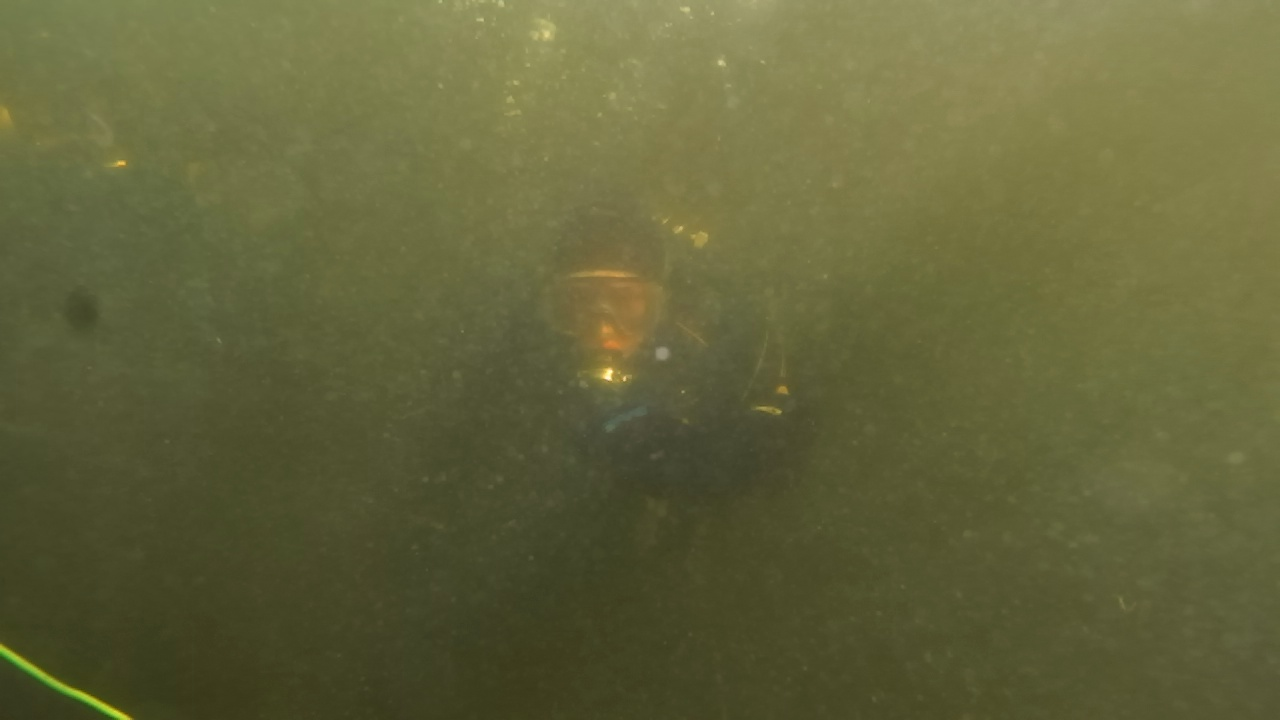Diver: (476, 192, 836, 530)
Head: (538, 202, 682, 394)
